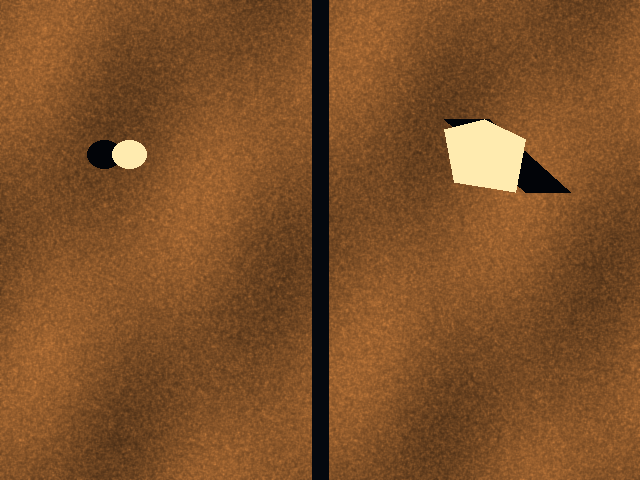Bottle: (112, 140, 146, 168)
Unknown Debris: (444, 119, 525, 192)
